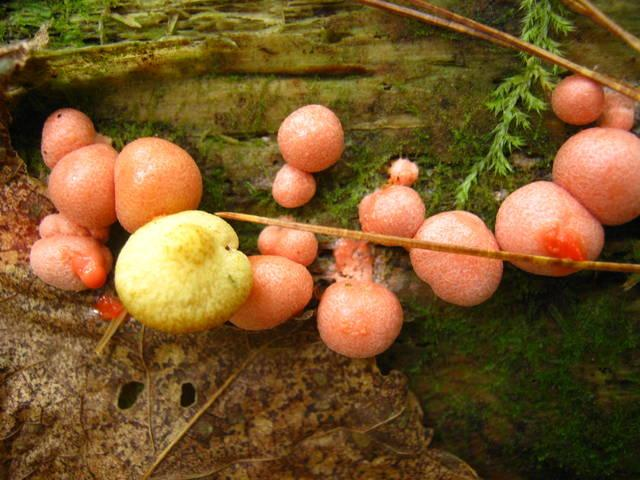Non-edible Mushroom: (231, 158, 459, 359), (111, 208, 254, 335), (494, 179, 604, 277), (408, 208, 503, 307), (550, 125, 639, 225), (315, 277, 403, 358), (28, 232, 111, 292), (276, 102, 345, 172), (549, 73, 604, 125)
